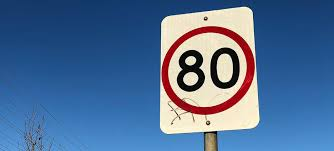sp80: (170, 32, 254, 100)
